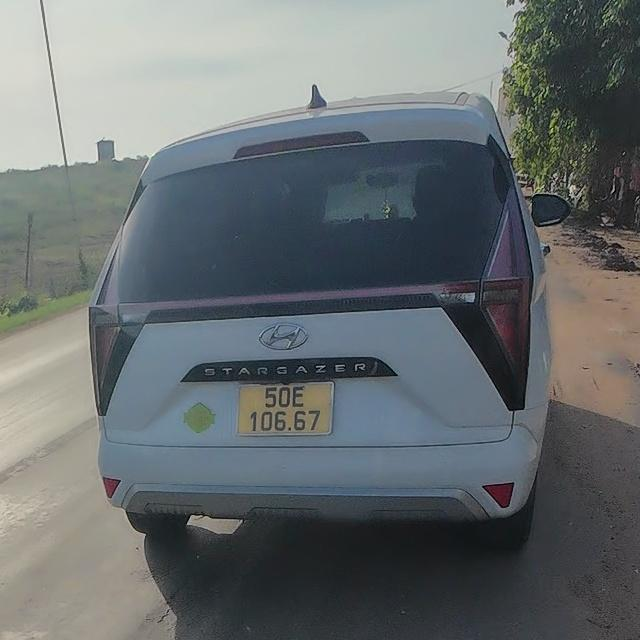license-plate: (237, 382, 333, 436)
